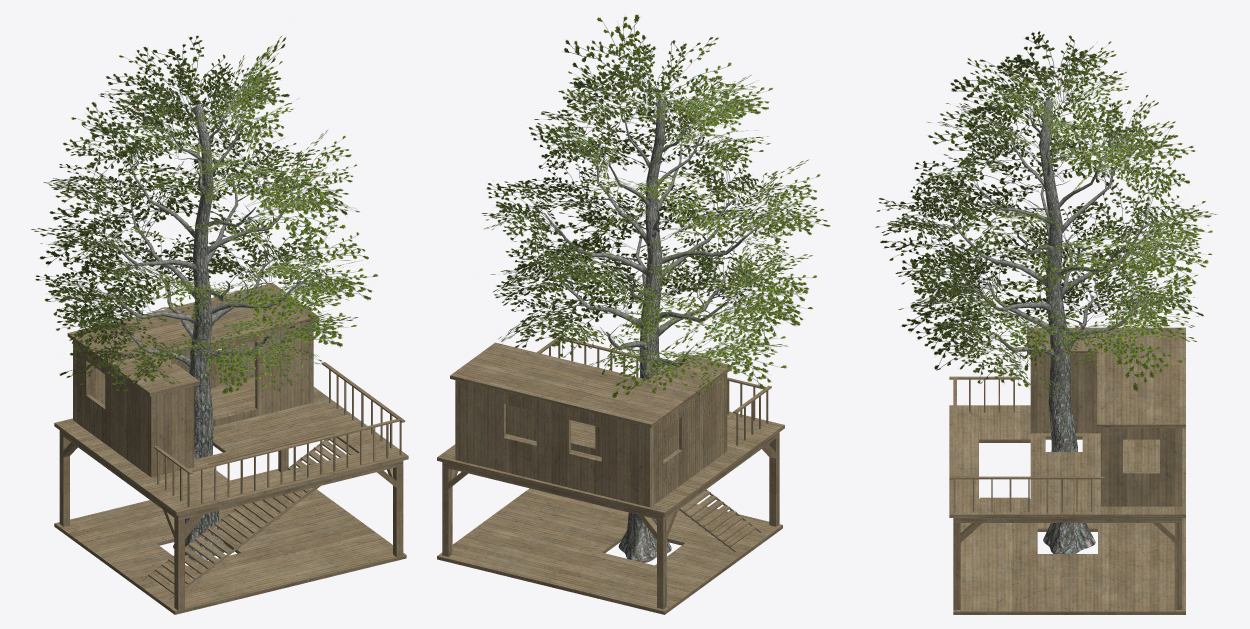
The model's file is dlx_-_tree_housewith_tree.glb.
3 renders of one model, left to right at view 1: azimuth 30°, elevation 25°; view 2: azimuth 150°, elevation 25°; view 3: azimuth 270°, elevation 25°, orthographic. The views are drawn at different scales.
Visible parts, largest first — view 1: tree_house_wall, tree, Second_Deck, tree_house_wall.004, tree_house_wall.012, Second_Deck.001, tree_house_wall.001, tree_house_wall.013, tree_house_wall.005, Second_Deck.002, fence, tree_house_wall.003 (+43 smaller); view 2: tree_house_wall, tree_house_wall.003, tree, tree_house_wall.012, tree_house_wall.004, tree_house_wall.013, Second_Deck, leafs.196, leafs.236, leafs.170, tree_house_wall.011, fence (+40 smaller); view 3: tree_house_wall, tree, Second_Deck, tree_house_wall.012, tree_house_wall.002, tree_house_wall.006, Second_Deck.001, Second_Deck.002, tree_house_wall.013, fence.001, leafs.178, leafs.168 (+46 smaller).
Boxes of the visible parts, x1,y1,x2,y2 form: tree_house_wall: (54, 430, 406, 614); tree: (106, 99, 304, 563); Second_Deck: (54, 377, 365, 484); tree_house_wall.004: (75, 342, 154, 477); tree_house_wall.012: (118, 283, 318, 353); Second_Deck.001: (161, 445, 408, 515); tree_house_wall.001: (255, 322, 313, 416); tree_house_wall.013: (67, 321, 199, 396); tree_house_wall.005: (154, 386, 190, 476); Second_Deck.002: (134, 425, 392, 504); fence: (190, 419, 399, 503); tree_house_wall.003: (73, 340, 255, 421); tree_house_wall: (437, 432, 782, 614); tree_house_wall.003: (455, 380, 652, 507); tree: (537, 95, 761, 562); tree_house_wall.012: (450, 342, 647, 415); tree_house_wall.004: (652, 373, 727, 505); tree_house_wall.013: (603, 355, 732, 427); Second_Deck: (437, 420, 743, 516); leafs.196: (564, 14, 655, 104); leafs.236: (660, 37, 731, 97); leafs.170: (712, 263, 807, 324); tree_house_wall.011: (442, 467, 452, 556); fence: (563, 337, 766, 420); tree_house_wall: (953, 518, 1185, 614); tree: (942, 98, 1150, 553); Second_Deck: (1030, 428, 1185, 517); tree_house_wall.012: (1097, 351, 1185, 427); tree_house_wall.002: (1104, 428, 1178, 506); tree_house_wall.006: (1030, 354, 1100, 433); Second_Deck.001: (949, 405, 978, 517); Second_Deck.002: (979, 405, 1030, 517); tree_house_wall.013: (1027, 327, 1185, 354); fence.001: (949, 476, 1104, 512); leafs.178: (1110, 216, 1208, 294); leafs.168: (1083, 299, 1185, 391).
Size of the model in its own units: 9.73 by 15.01 by 10.09.
Materials: 3 (3 with a texture image).
